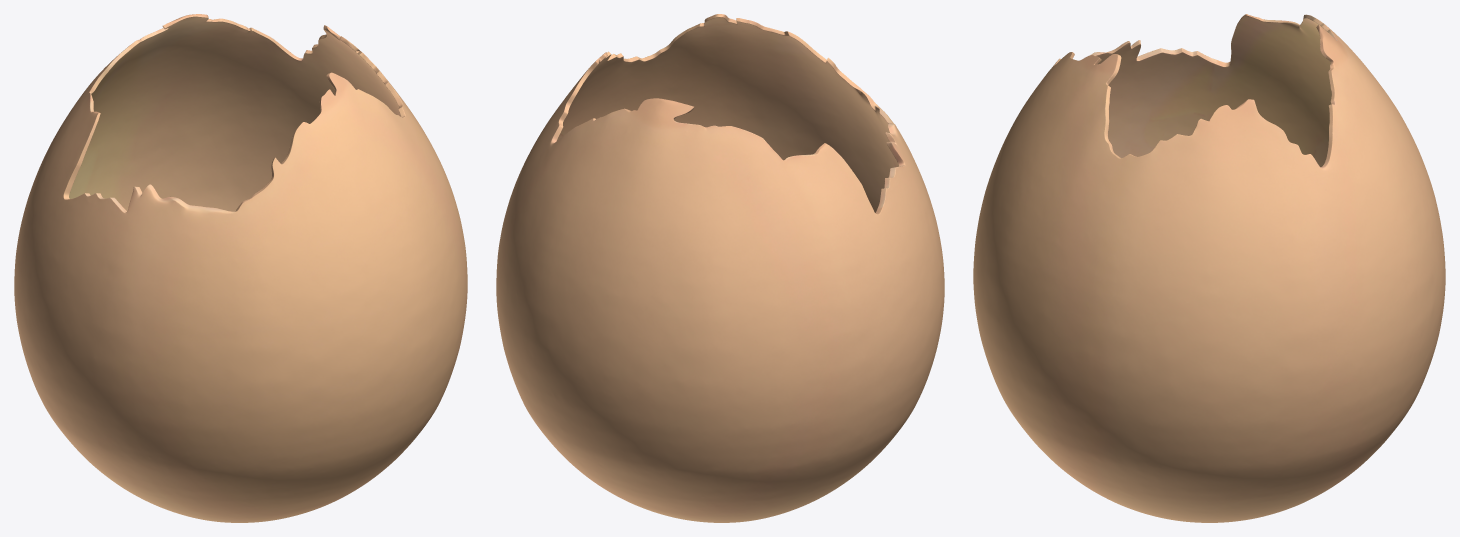
Rendered from Broken_Egg.glb.
3 renders of one model, left to right at view 1: azimuth 30°, elevation 25°; view 2: azimuth 150°, elevation 25°; view 3: azimuth 270°, elevation 25°, orthographic. The views are drawn at different scales.
Size of the model in its own units: 1.74 by 1.9 by 1.74.
Materials: 1 (1 with a texture image).
